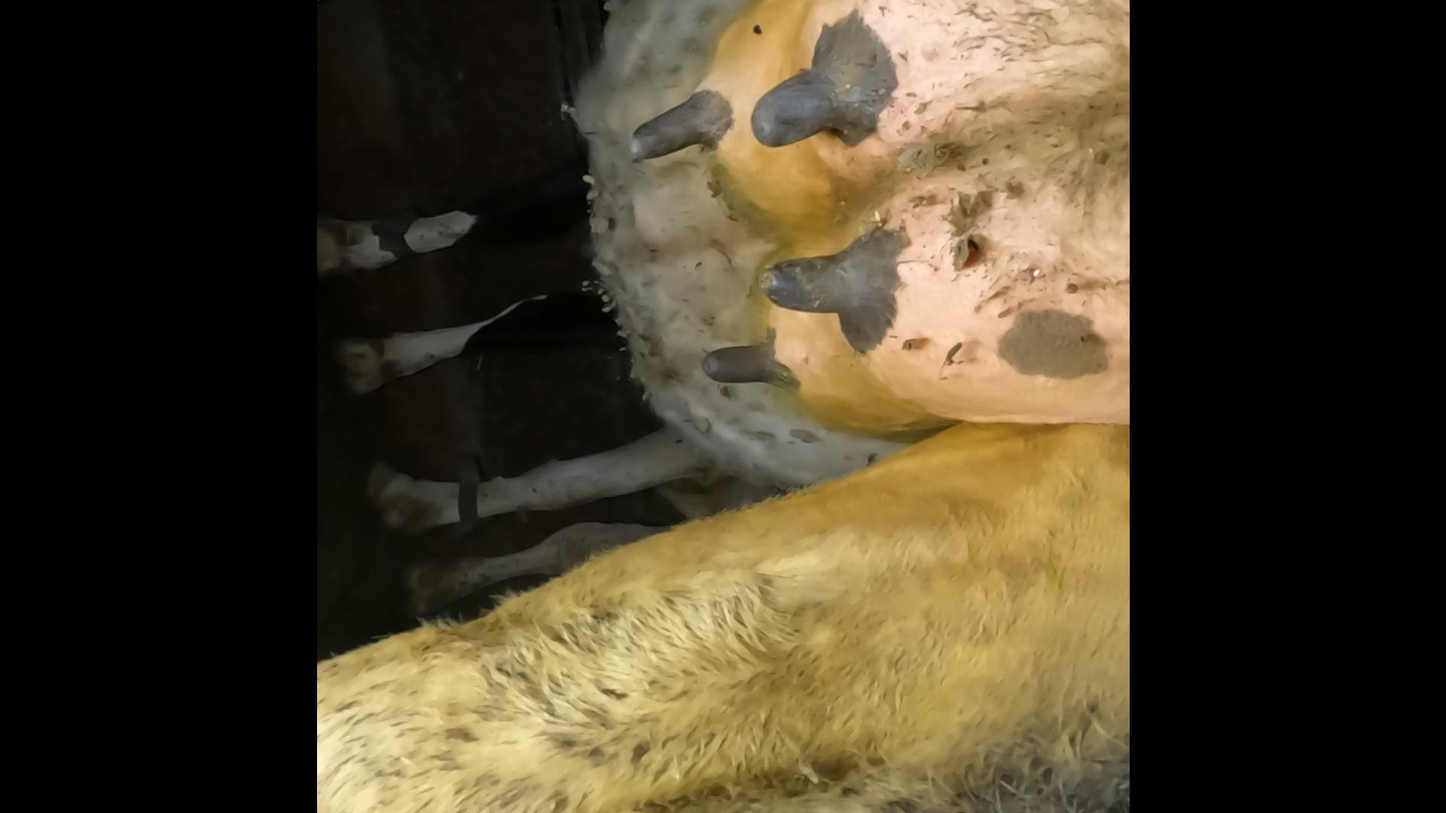Zitze: (728, 82, 890, 152), (755, 256, 892, 314), (612, 96, 725, 163), (701, 341, 794, 390)
